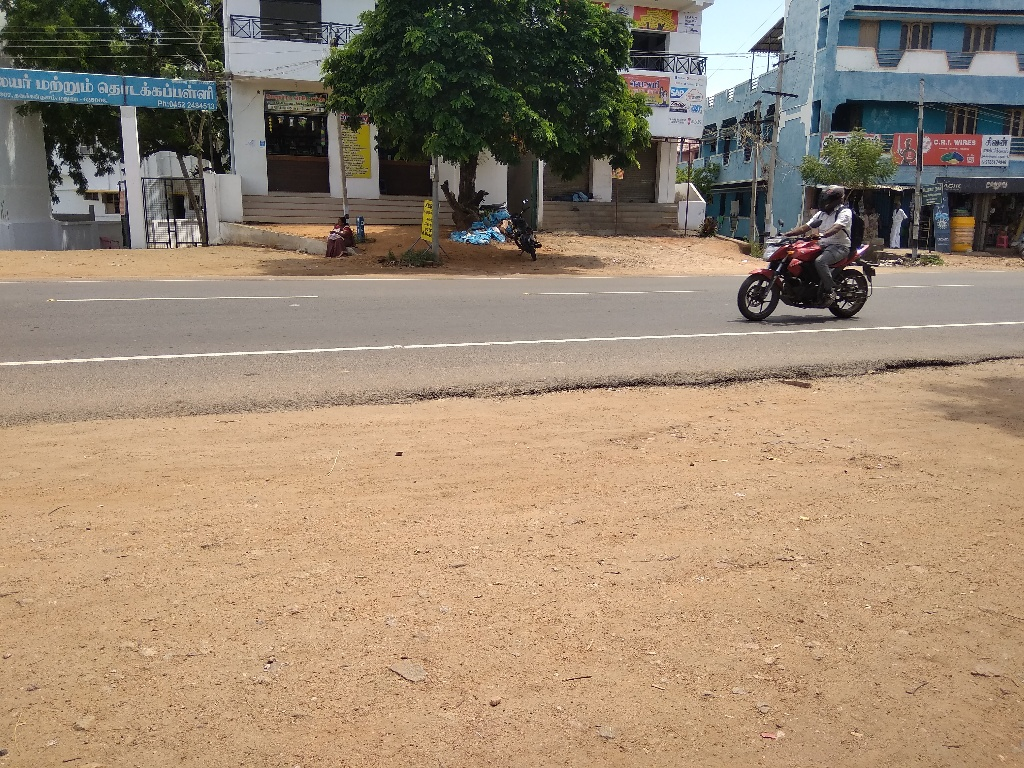biker: (723, 143, 896, 331)
helmet: (805, 169, 857, 225)
